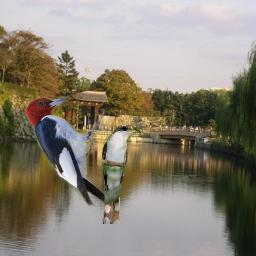Cuckoo: (101, 124, 141, 224)
Woodpecker: (23, 93, 111, 208)
